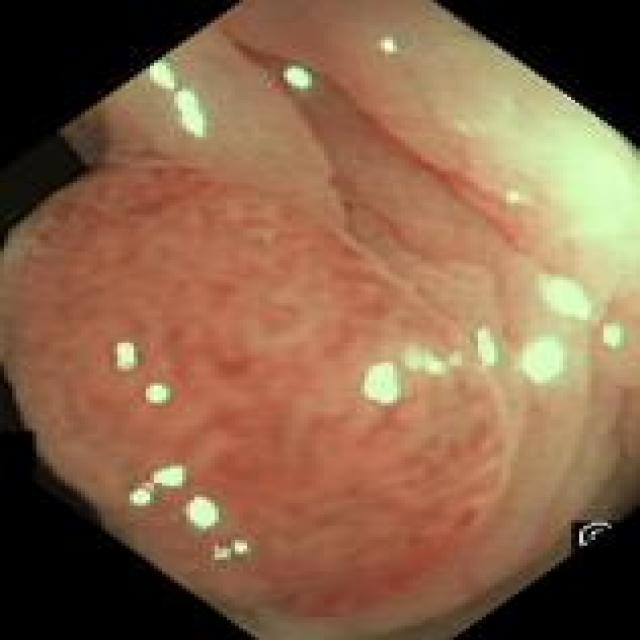Polyps: (5, 169, 510, 616)
